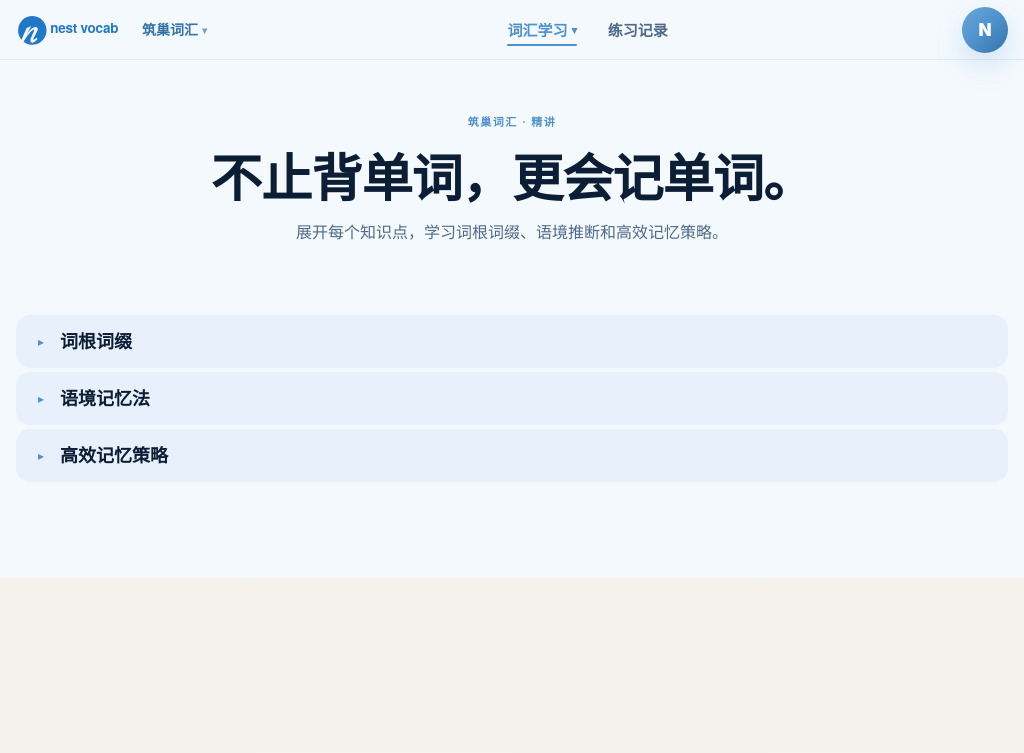
Test: VocabCoursesPage › shows a retry banner and clears it once the retried save succeeds
Click the button "▸ 词根词缀" at (96,341), box x1=16 y1=315 x2=1008 y2=368
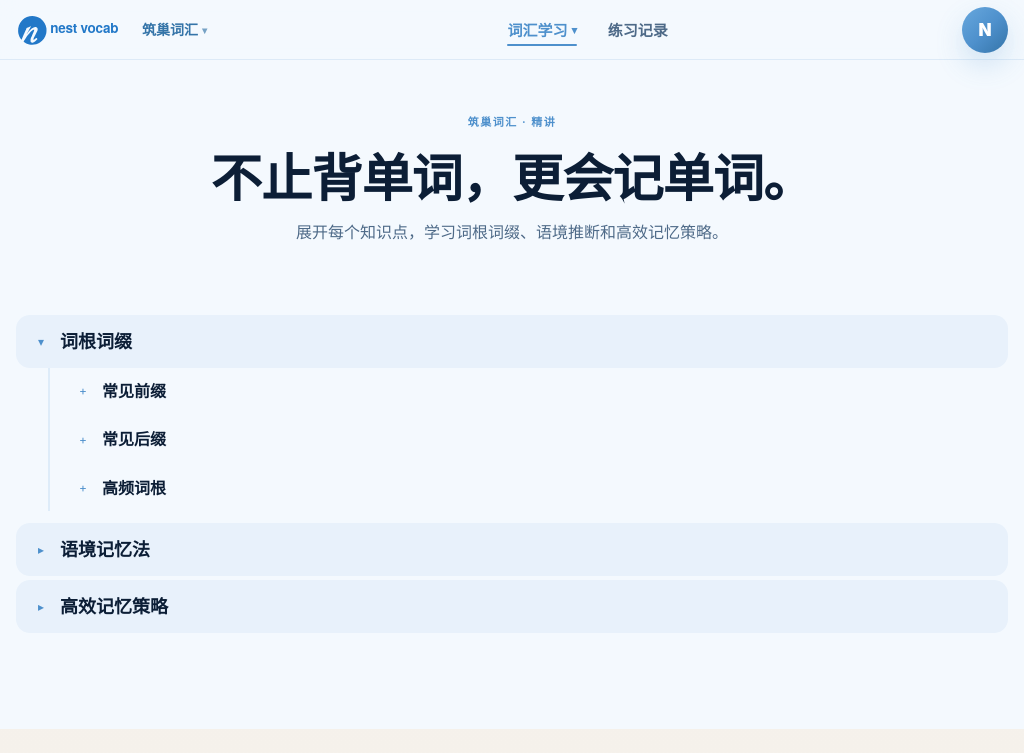
Expected: the button "+ 常见前缀" is shown
Click the button "+ 常见前缀" at (134,391), box x1=58 y1=368 x2=1008 y2=414
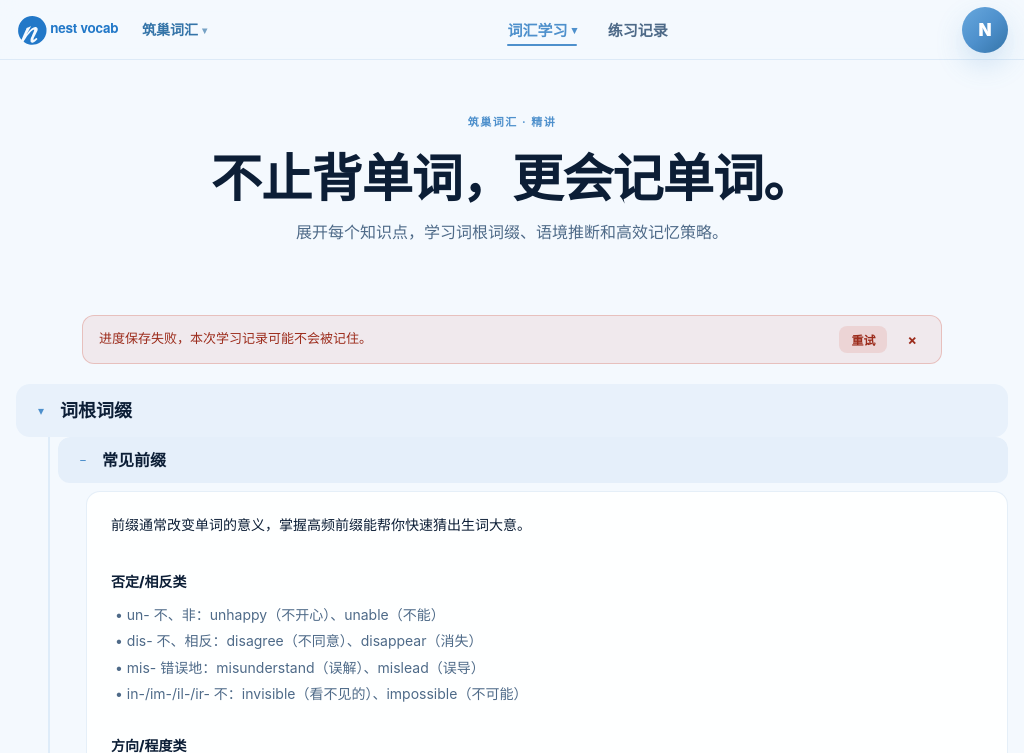
Expected: the message shows "进度保存失败", x1=99 y1=330 x2=372 y2=346
Click the button "重试" at (864,339), box x1=840 y1=326 x2=888 y2=353
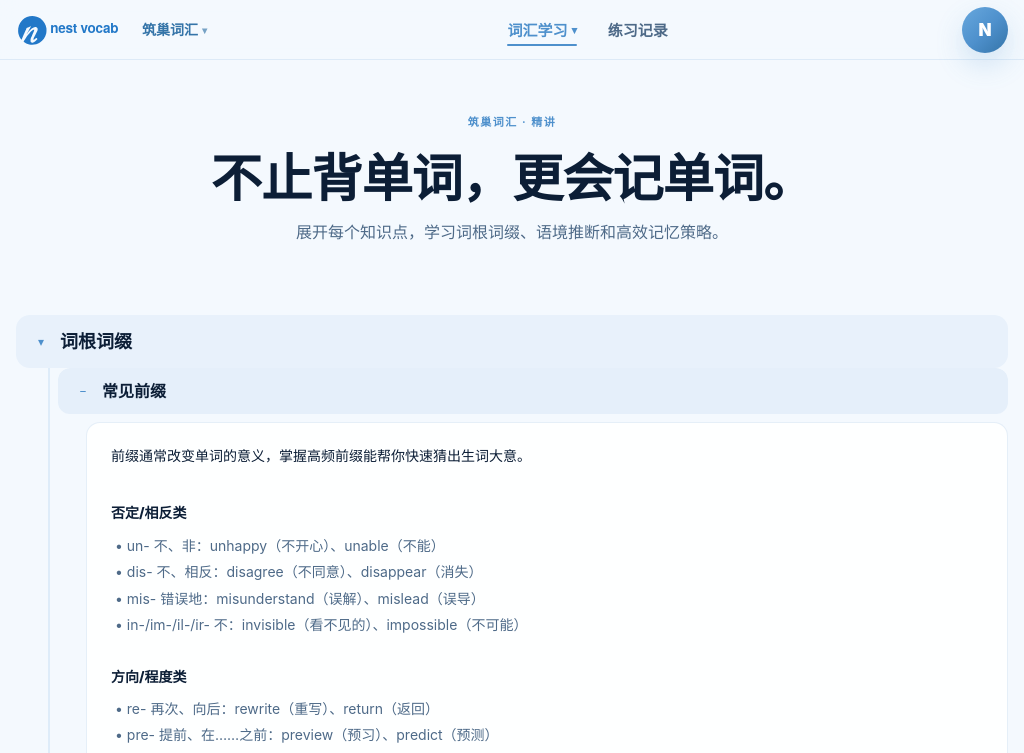
Expected: the message "进度保存失败，本次学习记录可能不会被记住。 重试 ×" is gone
